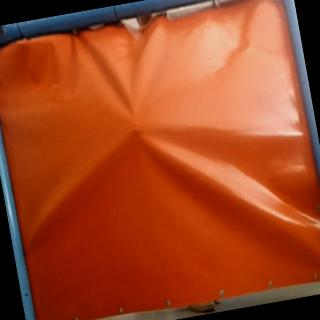Hit-hRxx: (131, 124, 142, 135)
